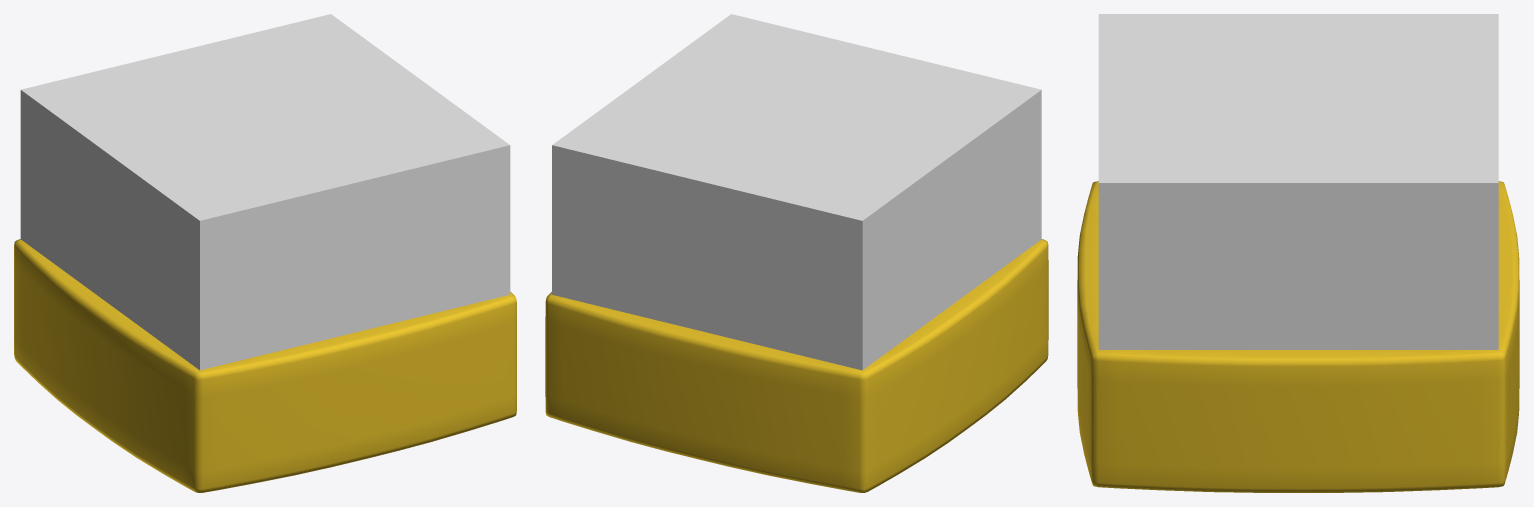
The model's file is button.gltf.
The picture shows the model from 3 angles, left to right: view 1: azimuth 30°, elevation 25°; view 2: azimuth 150°, elevation 25°; view 3: azimuth 270°, elevation 25°; orthographic projection. The views are drawn at different scales.
Visible parts, largest first — view 1: ButtonCapot, ButtonBase; view 2: ButtonCapot, ButtonBase; view 3: ButtonCapot, ButtonBase.
Part boxes in pixels (x1,y1,x2,y2): ButtonCapot: (20, 14, 510, 370); ButtonBase: (14, 239, 516, 492); ButtonCapot: (552, 14, 1041, 370); ButtonBase: (545, 239, 1048, 492); ButtonCapot: (1098, 14, 1498, 349); ButtonBase: (1077, 181, 1519, 492).
Bounding box in the file's own units: 0.0682 × 0.0515 × 0.0682.
